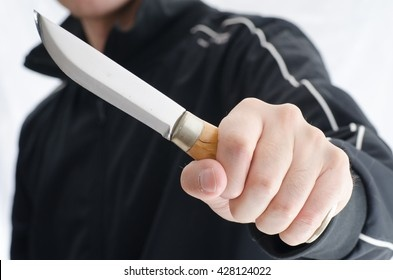knife: (32, 9, 334, 243)
